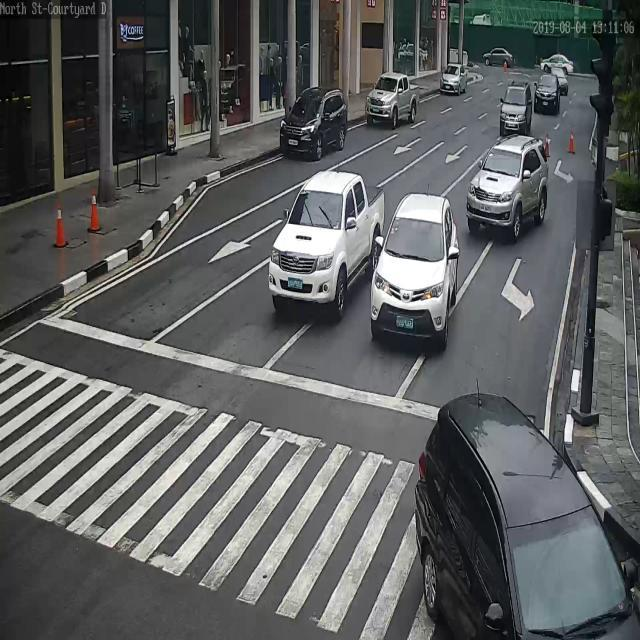car: (414, 392, 640, 636), (269, 169, 382, 316), (371, 193, 459, 344), (467, 134, 549, 234), (280, 86, 351, 161), (365, 74, 419, 129), (499, 81, 533, 138), (535, 74, 559, 114), (441, 63, 470, 94), (540, 53, 574, 75), (482, 47, 515, 68), (550, 66, 571, 95)
